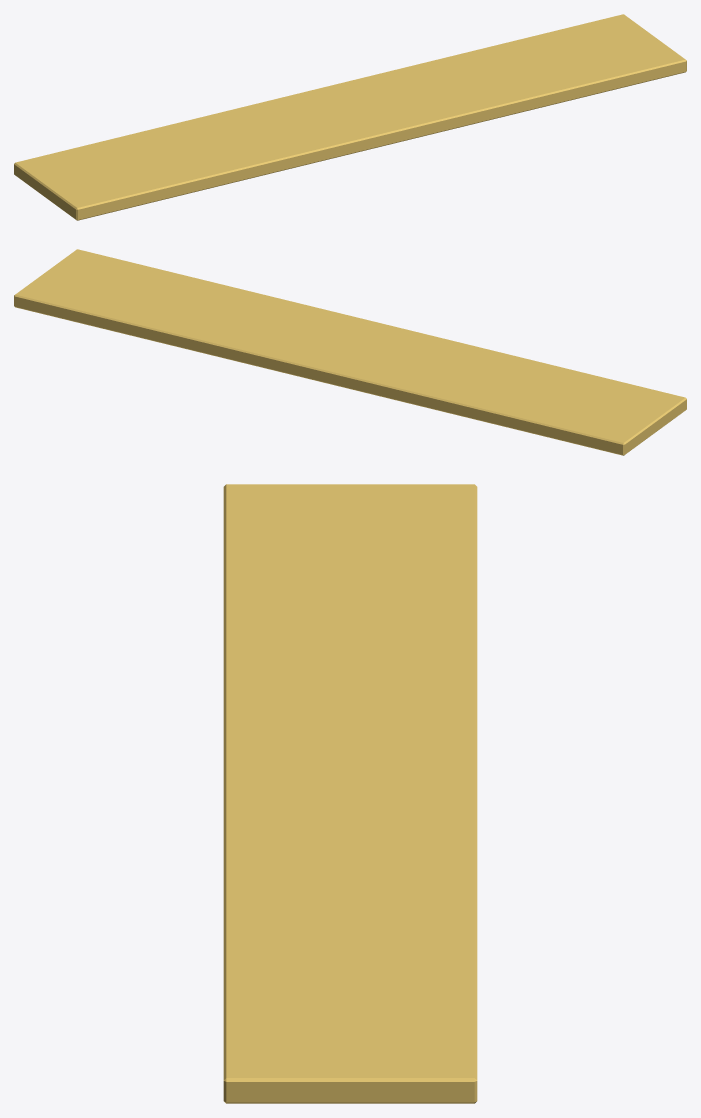
File: SM_Deck_10x0p2x1p8.glb
3 views of the same model, one above another, from view 1: azimuth 30°, elevation 25°; view 2: azimuth 150°, elevation 25°; view 3: azimuth 270°, elevation 25° (orthographic). The views are drawn at different scales.
Visible parts, largest first — view 1: SM_Deck_10x0p2x1p8; view 2: SM_Deck_10x0p2x1p8; view 3: SM_Deck_10x0p2x1p8.
Boxes of the visible parts, box(x1,y1,x2,y2) form: SM_Deck_10x0p2x1p8: box(14, 14, 686, 220); SM_Deck_10x0p2x1p8: box(14, 249, 686, 455); SM_Deck_10x0p2x1p8: box(223, 484, 477, 1103).
Size of the model in its own units: 10 by 0.2682 by 1.8.
